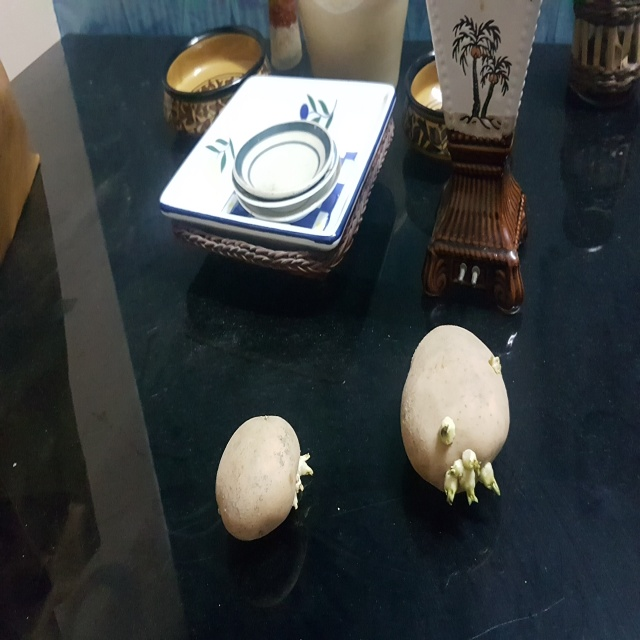potato: (398, 316, 521, 515), (207, 404, 327, 547)
